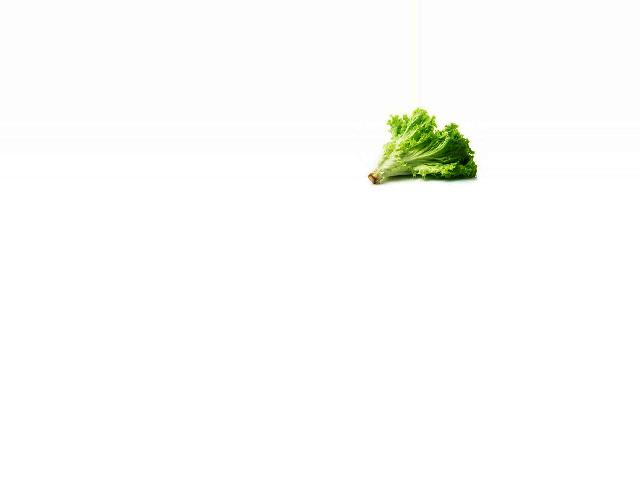lettuce: (365, 107, 476, 186)
